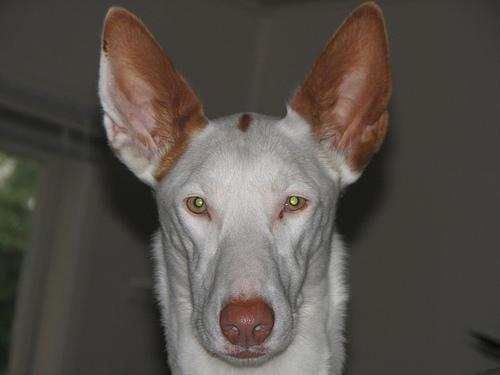Ibizan_hound: (97, 2, 390, 374)
